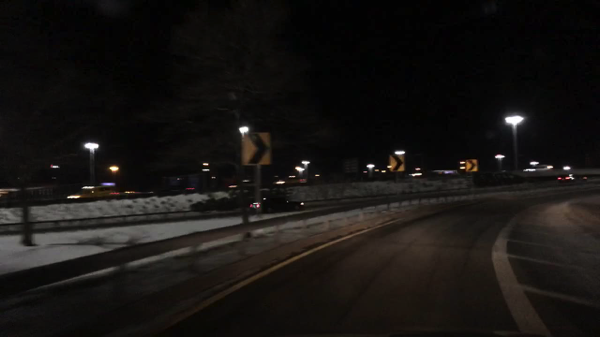car: (249, 195, 306, 213), (62, 185, 116, 198), (272, 176, 308, 185), (555, 173, 586, 182)
traffic sign: (240, 132, 272, 167), (389, 154, 405, 176), (465, 159, 477, 173)
